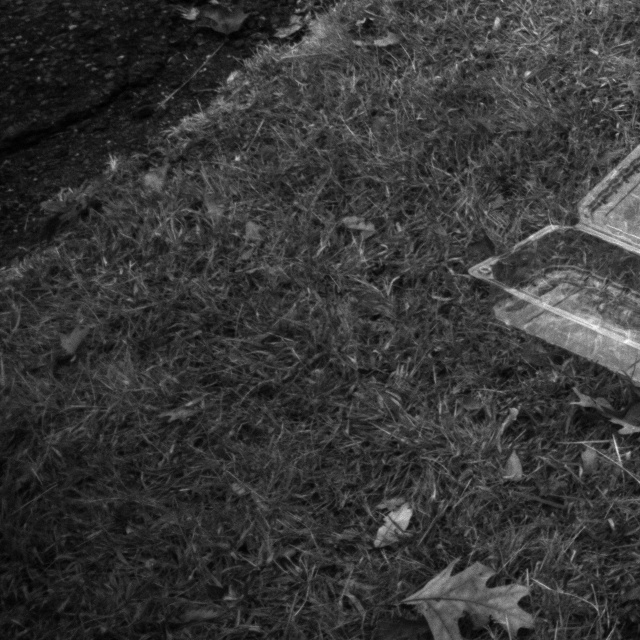container: (464, 126, 640, 396)
